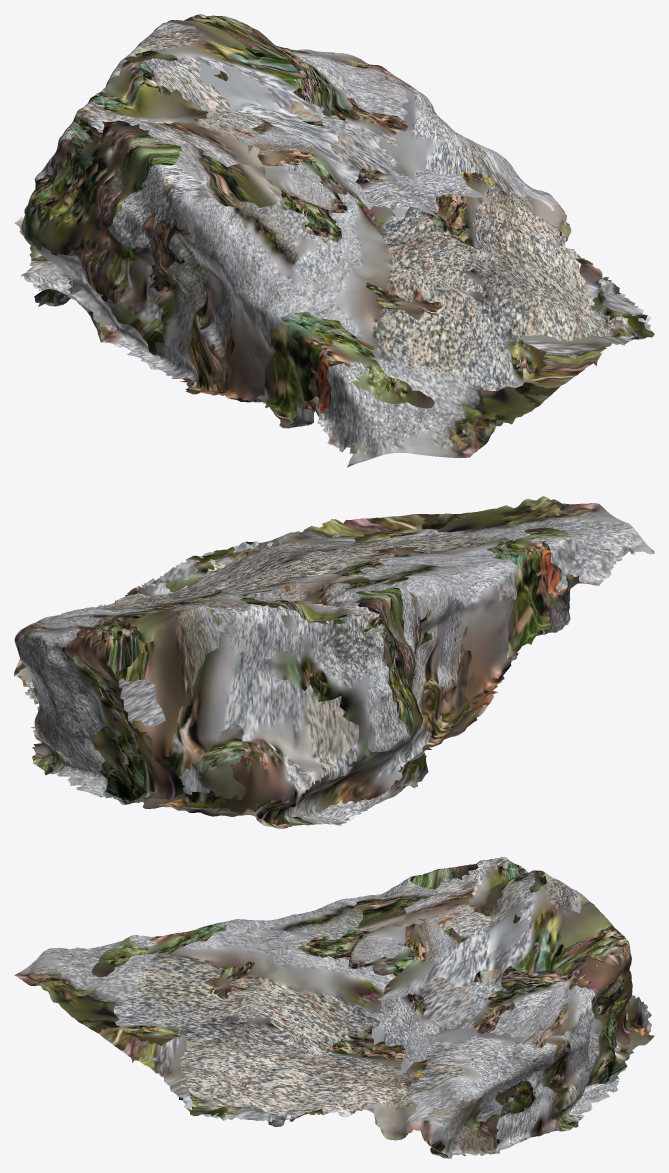
The model's file is cleaned.fbx.
The picture shows the model from 3 angles, top to bottom: view 1: azimuth 30°, elevation 25°; view 2: azimuth 150°, elevation 25°; view 3: azimuth 270°, elevation 25°; orthographic projection. The views are drawn at different scales.
Visible parts, largest first — view 1: nodes[0]; view 2: nodes[0]; view 3: nodes[0].
Boxes of the visible parts, box(x1,y1,x2,y2) form: nodes[0]: box(14, 14, 654, 467); nodes[0]: box(14, 496, 654, 828); nodes[0]: box(14, 857, 654, 1158).
Size of the model in its own units: 139 by 63.08 by 209.
